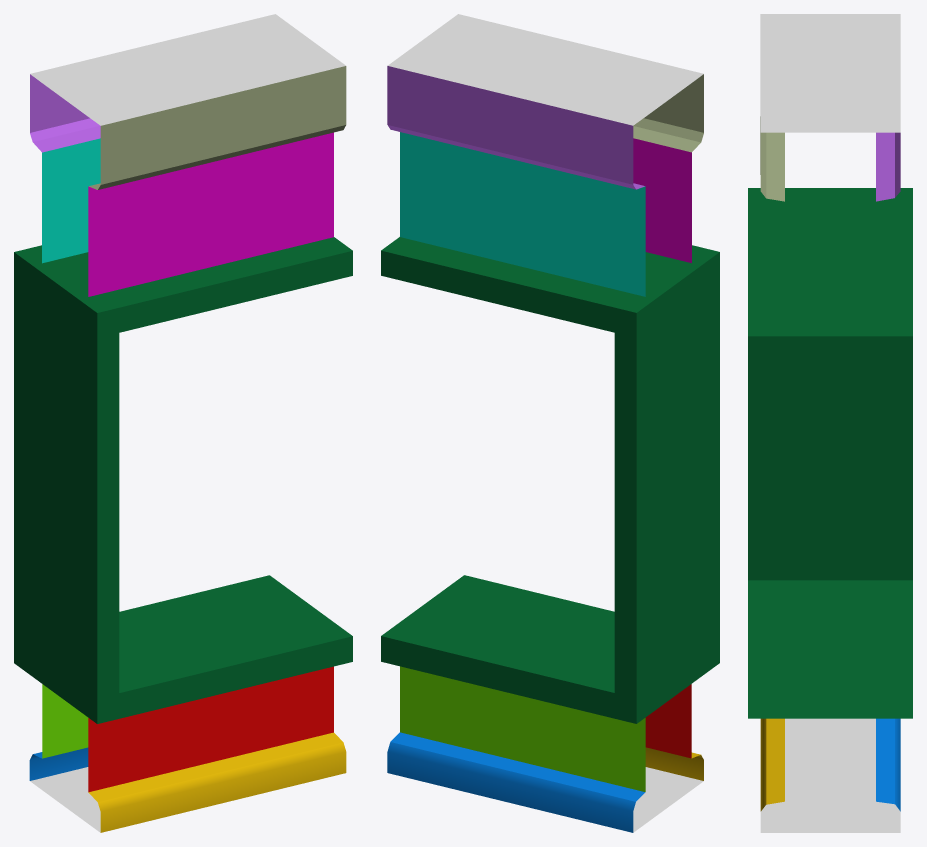
File: Wall_window_right.fbx
3 views of the same model, side by side, from view 1: azimuth 30°, elevation 25°; view 2: azimuth 150°, elevation 25°; view 3: azimuth 270°, elevation 25° (orthographic).
Visible parts, largest first — view 1: wall_Window_right; view 2: wall_Window_right; view 3: wall_Window_right.
Boxes of the visible parts, left/top/right/bottom form: wall_Window_right: left=14, top=14, right=352, bottom=832; wall_Window_right: left=381, top=14, right=719, bottom=832; wall_Window_right: left=748, top=14, right=912, bottom=832.
Bounding box in the file's own units: 104 × 275 × 58.73.
